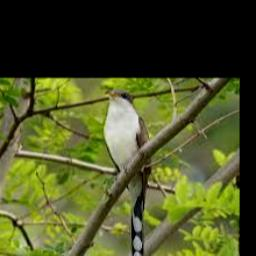Cuckoo: (102, 90, 150, 256)
